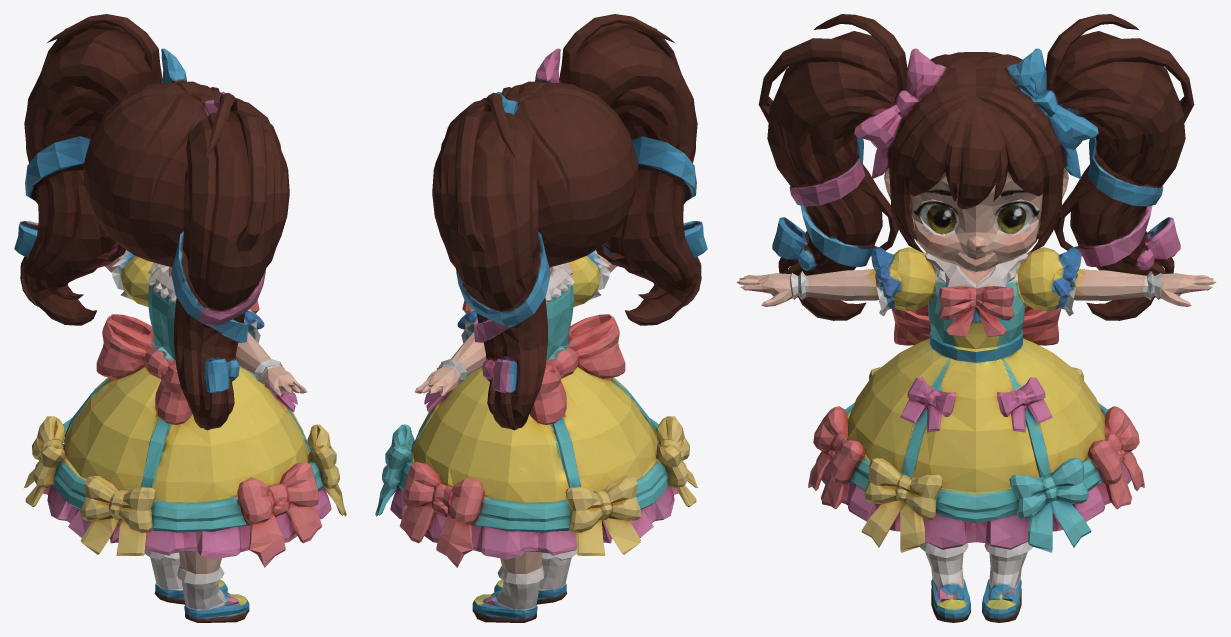
The model's file is cute chibi girl 3d model_Clone1.glb.
The picture shows the model from 3 angles, left to right: view 1: azimuth 30°, elevation 25°; view 2: azimuth 150°, elevation 25°; view 3: azimuth 270°, elevation 25°; orthographic projection. The views are drawn at different scales.
Parts seen in each view (by area): view 1: tripo_node_7b9064eb-cc3e-4a96-b239-e814777532ed; view 2: tripo_node_7b9064eb-cc3e-4a96-b239-e814777532ed; view 3: tripo_node_7b9064eb-cc3e-4a96-b239-e814777532ed.
Part boxes in pixels (left/top/right/bottom): tripo_node_7b9064eb-cc3e-4a96-b239-e814777532ed: left=14, top=14, right=346, bottom=622; tripo_node_7b9064eb-cc3e-4a96-b239-e814777532ed: left=375, top=14, right=707, bottom=622; tripo_node_7b9064eb-cc3e-4a96-b239-e814777532ed: left=736, top=14, right=1216, bottom=622.
Bounding box in the file's own units: 0.4736 × 1 × 0.7573.
Materials: 1 (1 with a texture image).
